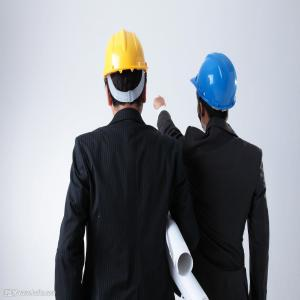blue: (192, 50, 239, 130)
yellow: (104, 31, 149, 119)
